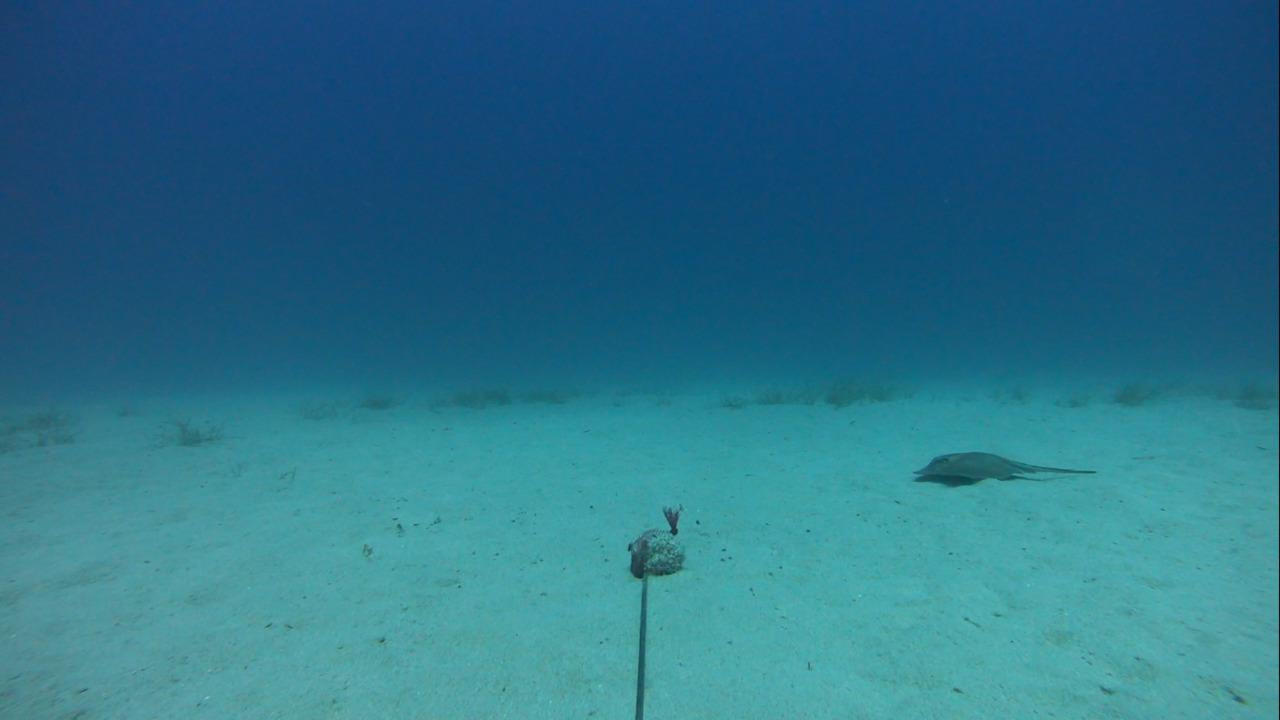myliobatis: (911, 446, 1106, 490)
